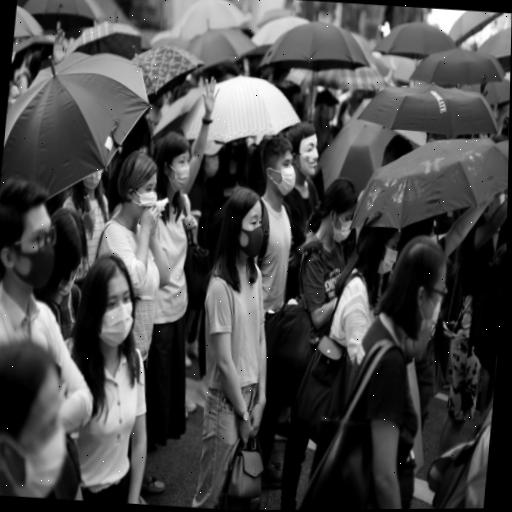mask: (0, 177, 66, 296), (390, 234, 451, 338), (77, 259, 140, 350), (42, 206, 87, 299), (219, 187, 271, 262), (113, 149, 163, 219), (359, 214, 402, 279), (256, 135, 300, 197), (319, 178, 359, 244), (155, 132, 195, 197)
